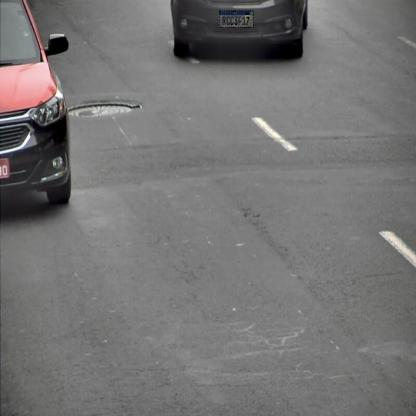PlacaM: (219, 10, 254, 28)
